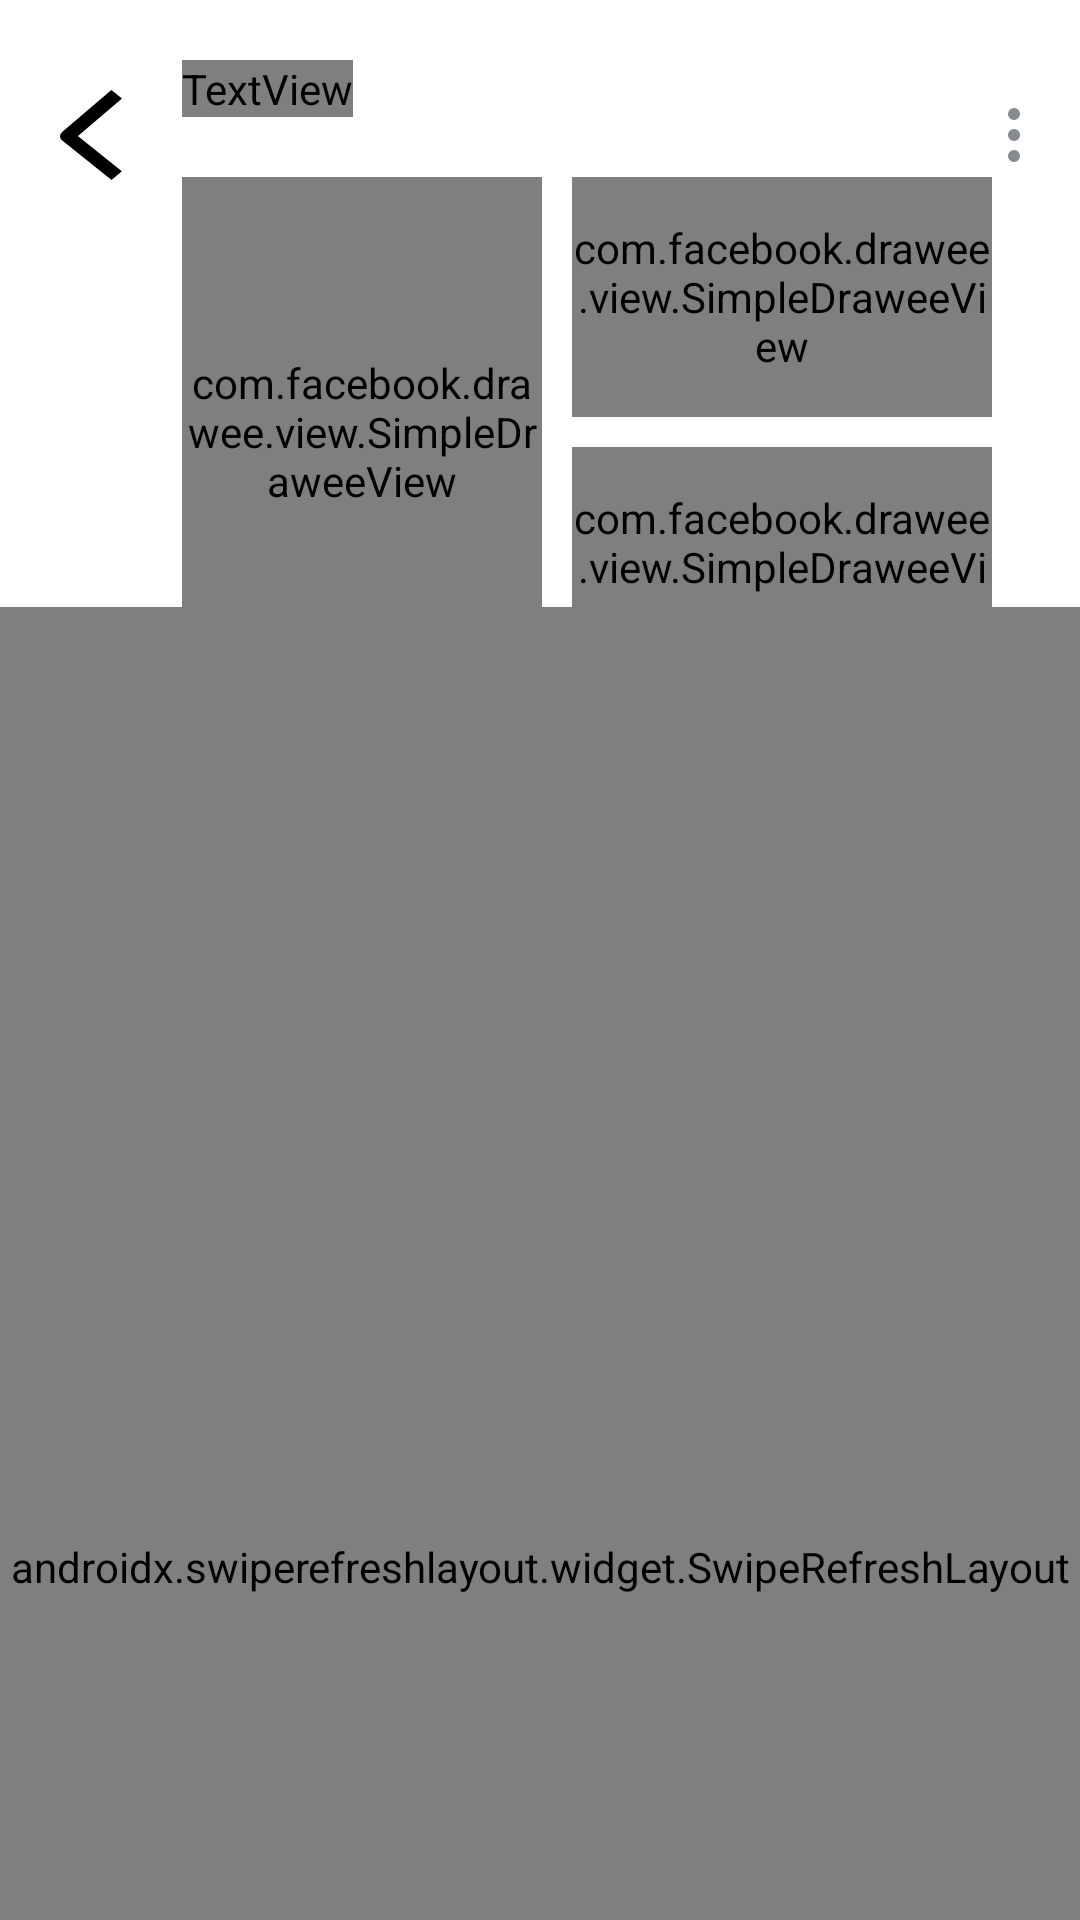

Icon bounding boxes for this 1080w x 1920h phone screenshot, format (x1, y1, x2, y2):
back: (60, 90, 122, 180)
